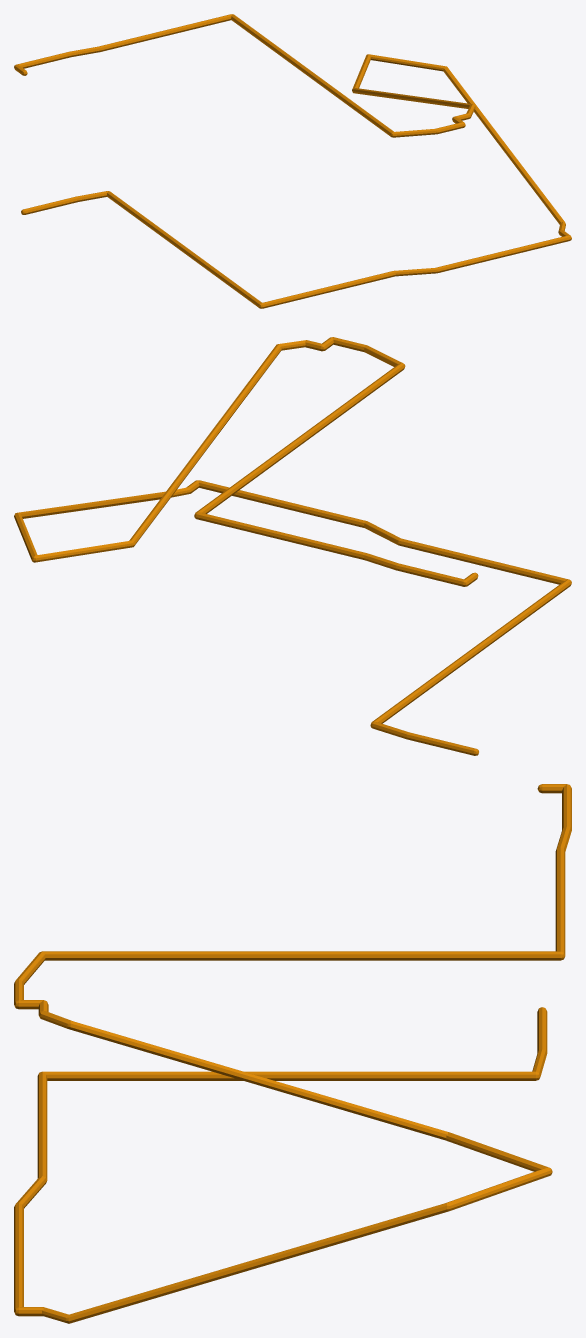
3 renders of one model, top to bottom at view 1: azimuth 30°, elevation 25°; view 2: azimuth 150°, elevation 25°; view 3: azimuth 270°, elevation 25°, orthographic. The views are drawn at different scales.
Size of the model in its own units: 1495 by 520 by 1131.
